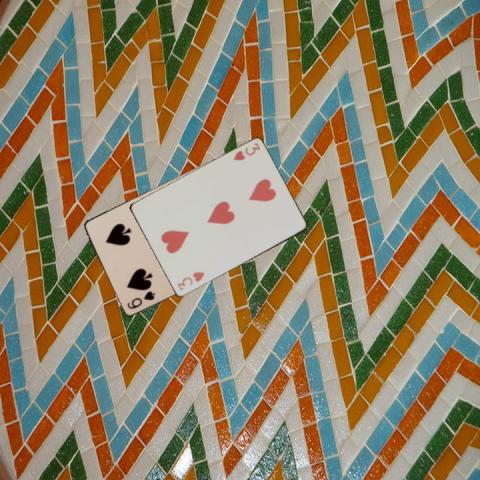3h: (174, 269, 206, 292), (230, 140, 261, 162)
6s: (124, 287, 157, 310)
